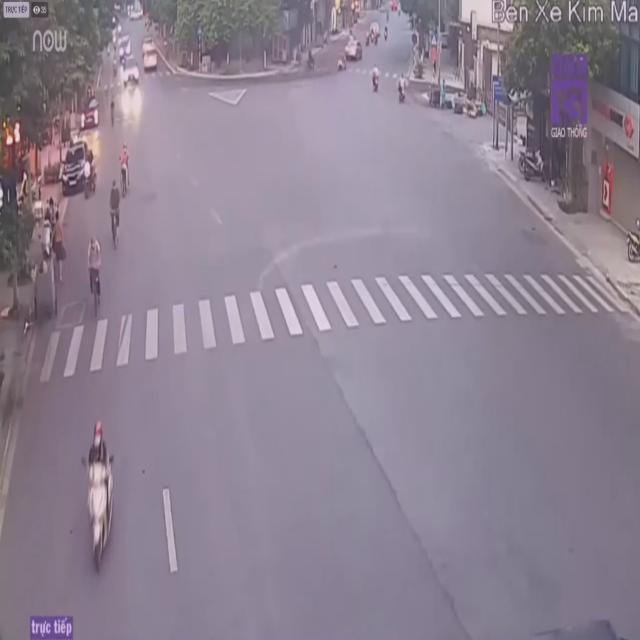motorbike: (77, 423, 118, 580), (396, 70, 406, 104)
